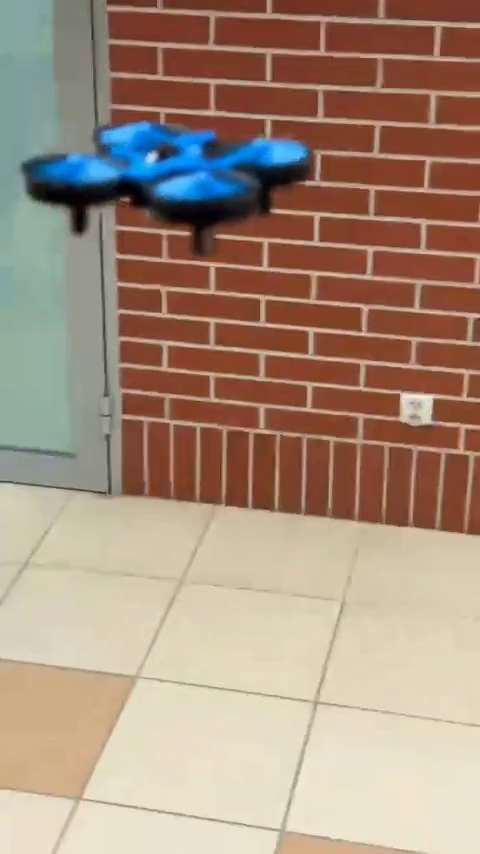drone: (24, 120, 319, 247)
